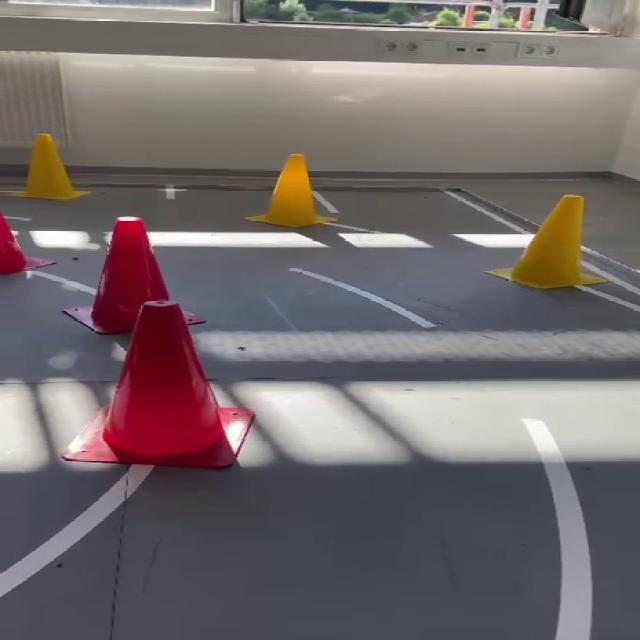Cones-yellow: (97, 304, 143, 341)
